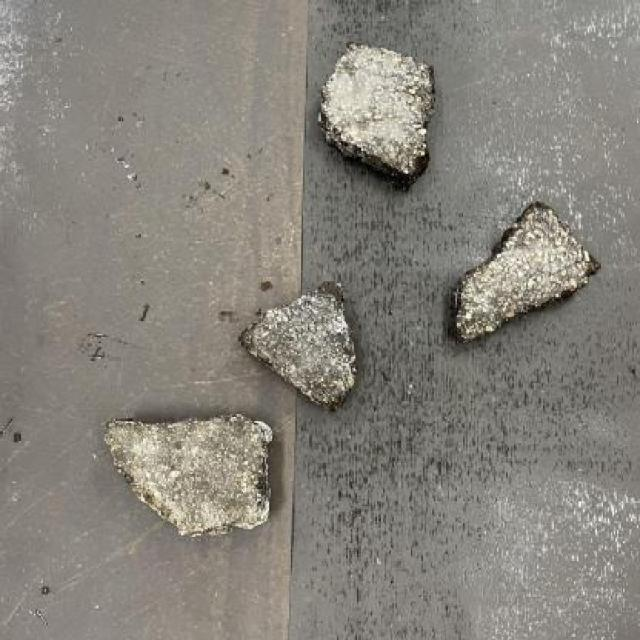Road Debris: (452, 208, 594, 318), (113, 422, 270, 506), (246, 288, 360, 394), (330, 46, 428, 166)
